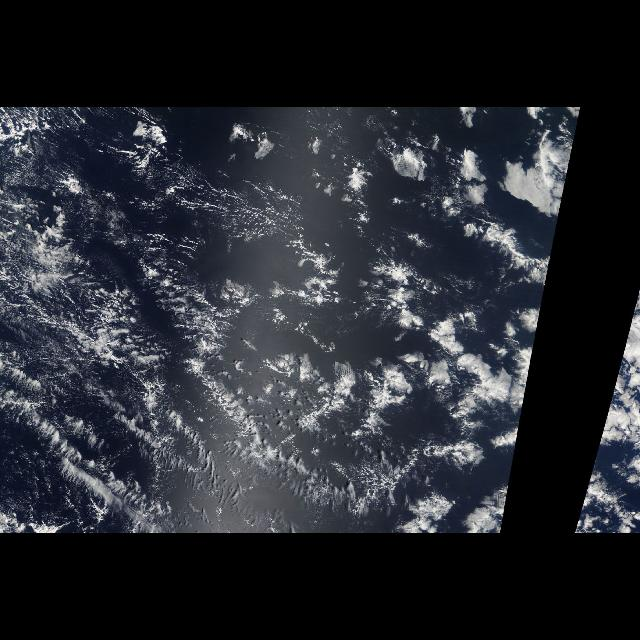Flower: (322, 110, 580, 528), (575, 310, 633, 528)
Sugar: (4, 142, 302, 364)
